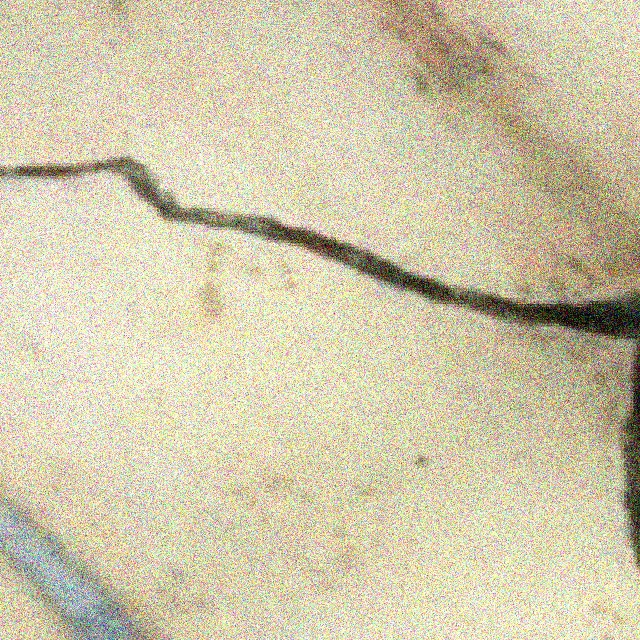SurfaceCrack: (6, 118, 640, 356)
